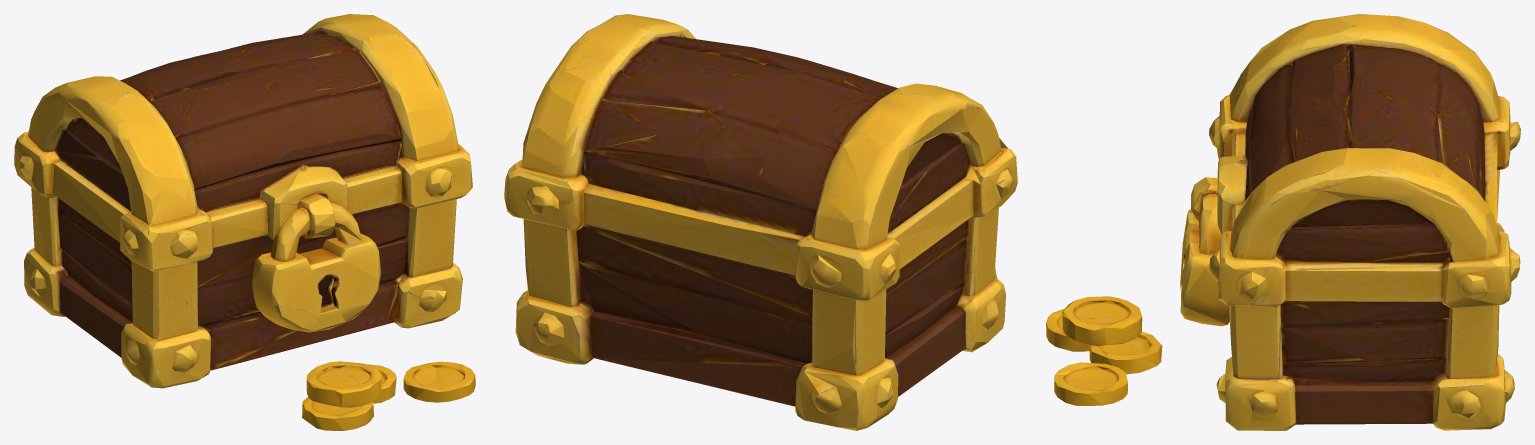
Rendered from strand-kiste.glb.
3 renders of one model, left to right at view 1: azimuth 30°, elevation 25°; view 2: azimuth 150°, elevation 25°; view 3: azimuth 270°, elevation 25°, orthographic. The views are drawn at different scales.
Size of the model in its own units: 1.68 by 1.18 by 1.9.
Materials: 1 (1 with a texture image).
